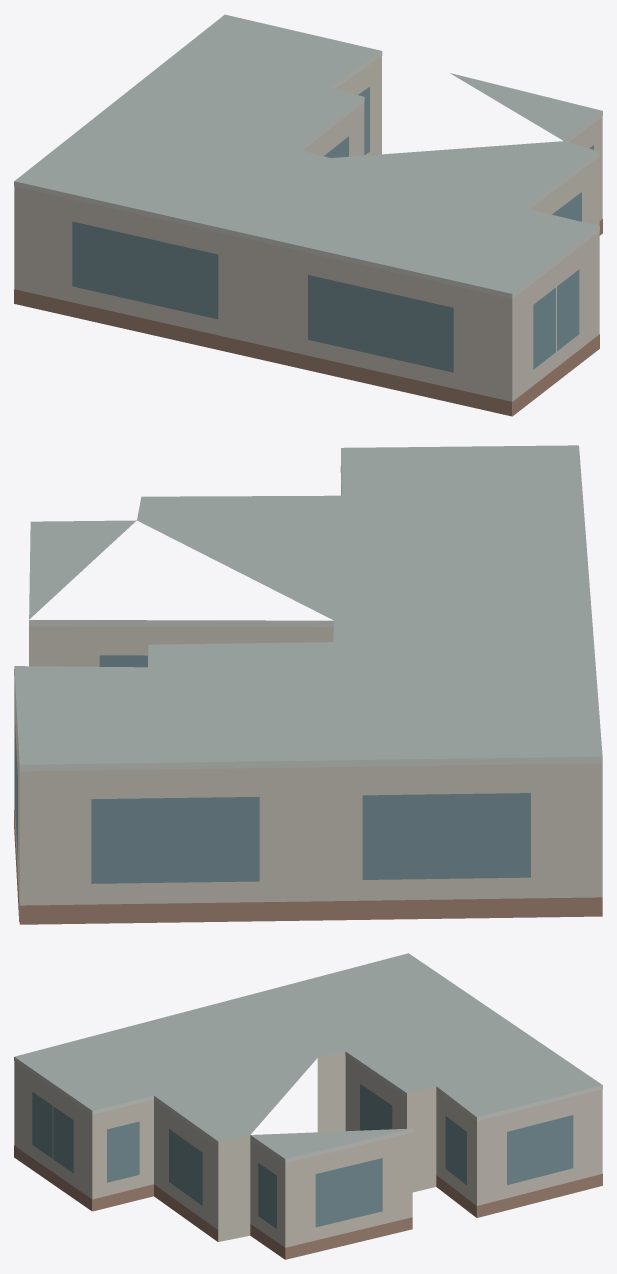
Rendered from survey-upis-32637370.glb.
The picture shows the model from 3 angles, top to bottom: view 1: azimuth 30°, elevation 25°; view 2: azimuth 150°, elevation 25°; view 3: azimuth 270°, elevation 25°; orthographic projection. The views are drawn at different scales.
Visible parts, largest first — view 1: survey-upis-32637370.tmp; view 2: survey-upis-32637370.tmp; view 3: survey-upis-32637370.tmp.
Boxes of the visible parts, x1=… form: survey-upis-32637370.tmp: x1=14, y1=14, x2=602, y2=416; survey-upis-32637370.tmp: x1=14, y1=445, x2=602, y2=924; survey-upis-32637370.tmp: x1=14, y1=953, x2=602, y2=1259.
Size of the model in its own units: 13.39 by 3.05 by 16.18.
